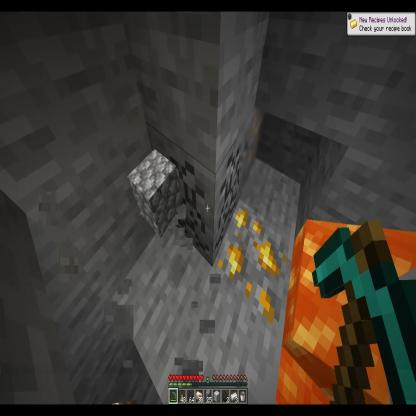gold ore: (213, 197, 293, 332)
iron ore: (239, 103, 270, 198)
